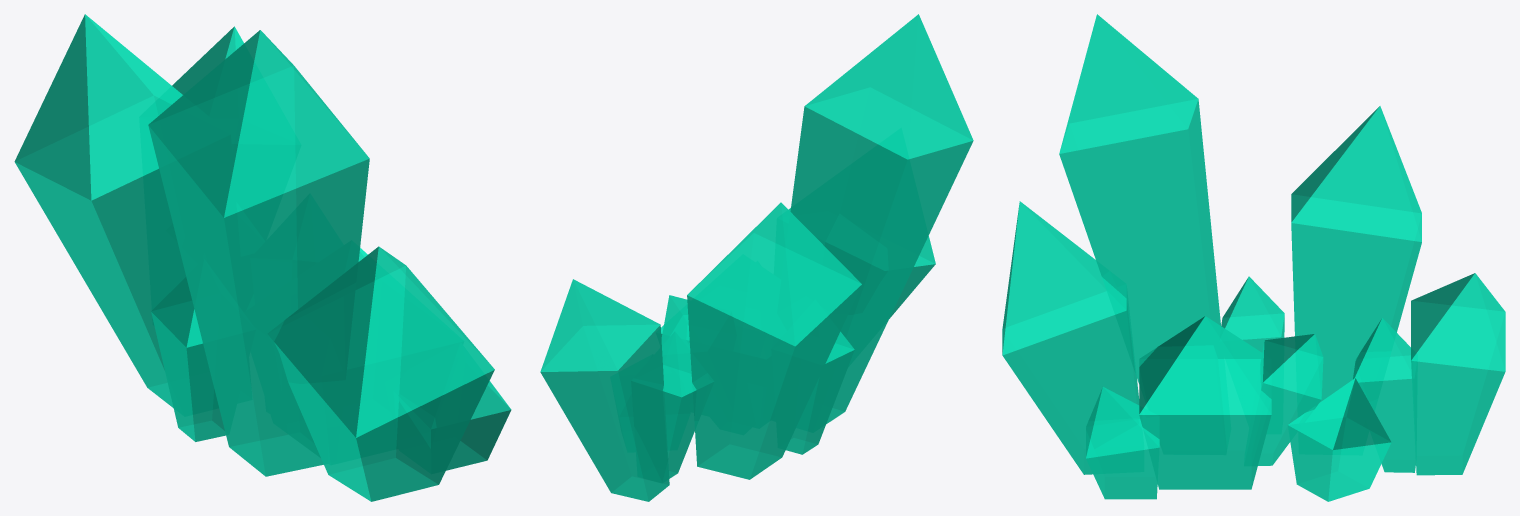
Rendered from Crystall.FBX.
3 renders of one model, left to right at view 1: azimuth 30°, elevation 25°; view 2: azimuth 150°, elevation 25°; view 3: azimuth 270°, elevation 25°, orthographic. The views are drawn at different scales.
Visible parts, largest first — view 1: Crystall; view 2: Crystall; view 3: Crystall.
Part boxes in pixels (<box>): Crystall: <box>14,14,511,501</box>; Crystall: <box>540,14,973,501</box>; Crystall: <box>1002,14,1505,501</box>.
Bounding box in the file's own units: 363 × 560 × 647.
